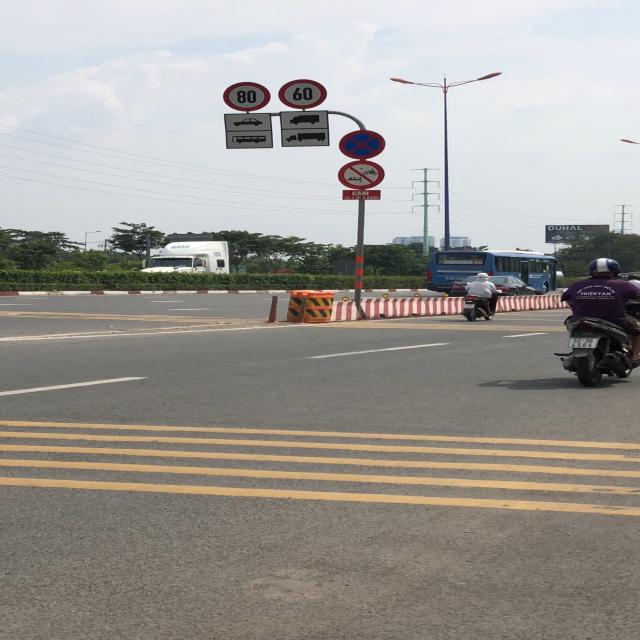Bien bao cam dung xe va do xe: (335, 129, 385, 160)
Bien bao toc do toi da cho phep: (277, 77, 329, 108), (220, 81, 272, 111)
